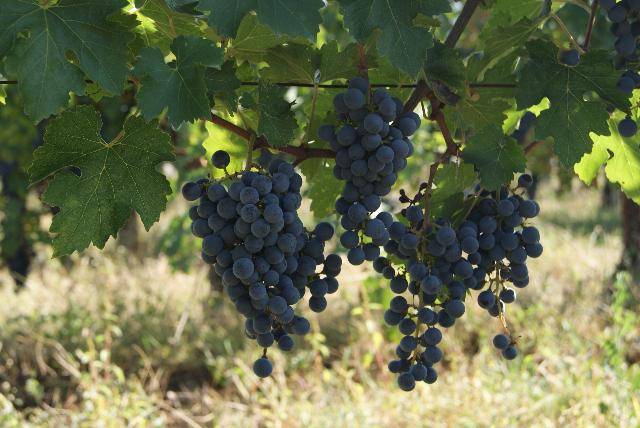grapes: (182, 160, 340, 378), (318, 76, 420, 265), (380, 192, 468, 391), (458, 190, 542, 319), (494, 332, 518, 360), (212, 151, 230, 169)
